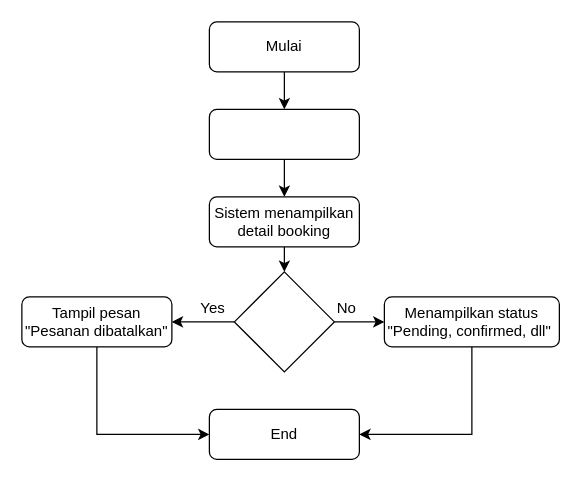
Some shapes in this 581 by 481 pixel diagram are drawn without their labels. Each missing label, with the box of its shape:
Booking dibatalkan?: (233, 271, 334, 372)
Pilih "My booking": (208, 108, 359, 159)
